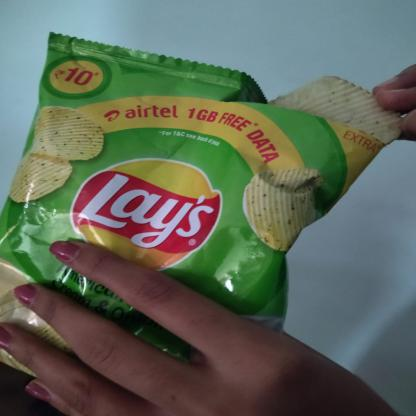cream_and_onion: (3, 30, 355, 378)
